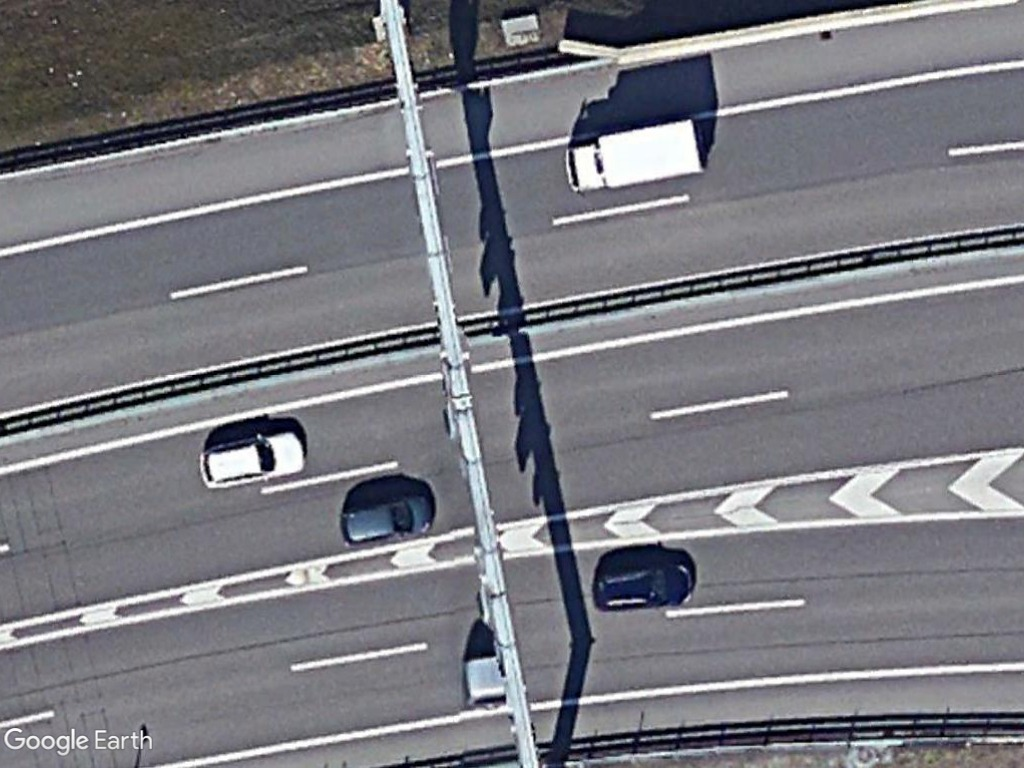car: (196, 430, 310, 493), (337, 492, 437, 552), (592, 560, 695, 613)
truck: (563, 116, 710, 192)
